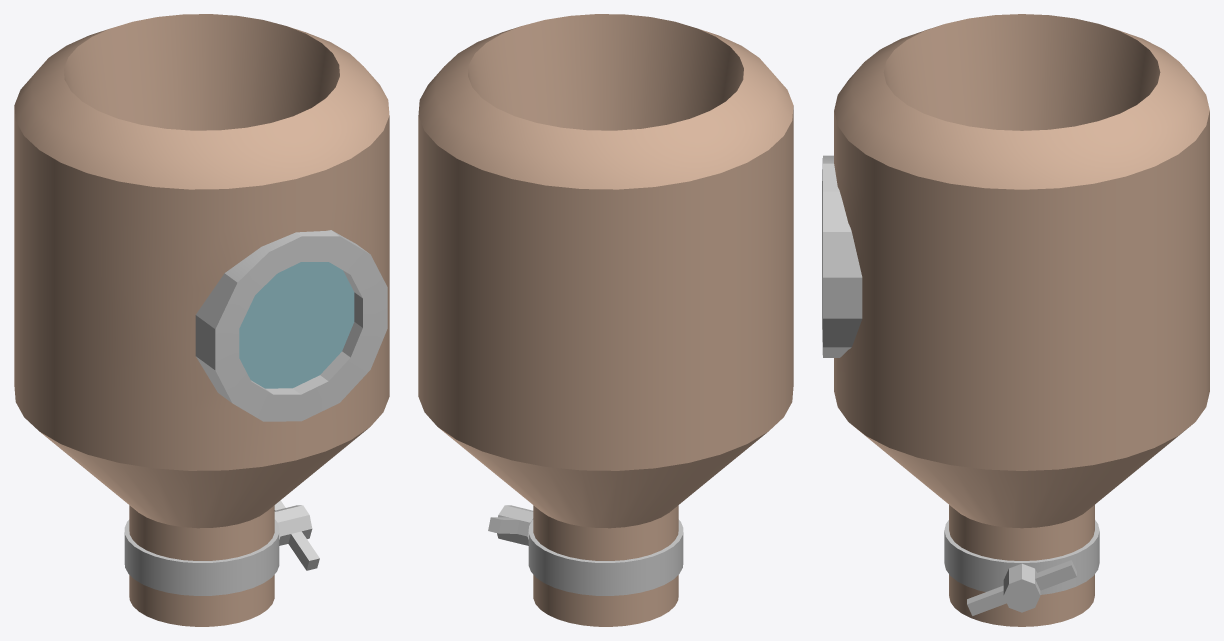
The model's file is VatModel.fbx.
3 renders of one model, left to right at view 1: azimuth 30°, elevation 25°; view 2: azimuth 150°, elevation 25°; view 3: azimuth 270°, elevation 25°, orthographic.
Parts seen in each view (by area): view 1: Vat, VatValve_Handle; view 2: Vat, VatValve_Handle; view 3: Vat, VatValve_Handle.
Boxes of the visible parts, <box> form: Vat: <box>14,14,389,626</box>; VatValve_Handle: <box>274,500,319,570</box>; Vat: <box>418,14,793,626</box>; VatValve_Handle: <box>488,505,533,545</box>; Vat: <box>822,14,1209,626</box>; VatValve_Handle: <box>967,560,1076,615</box>.
Size of what is drawn, in the model's own units: 62.2 by 95.66 by 64.19.
